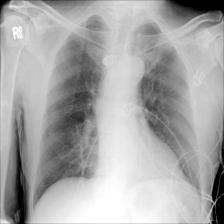normal: (29, 8, 206, 212)
